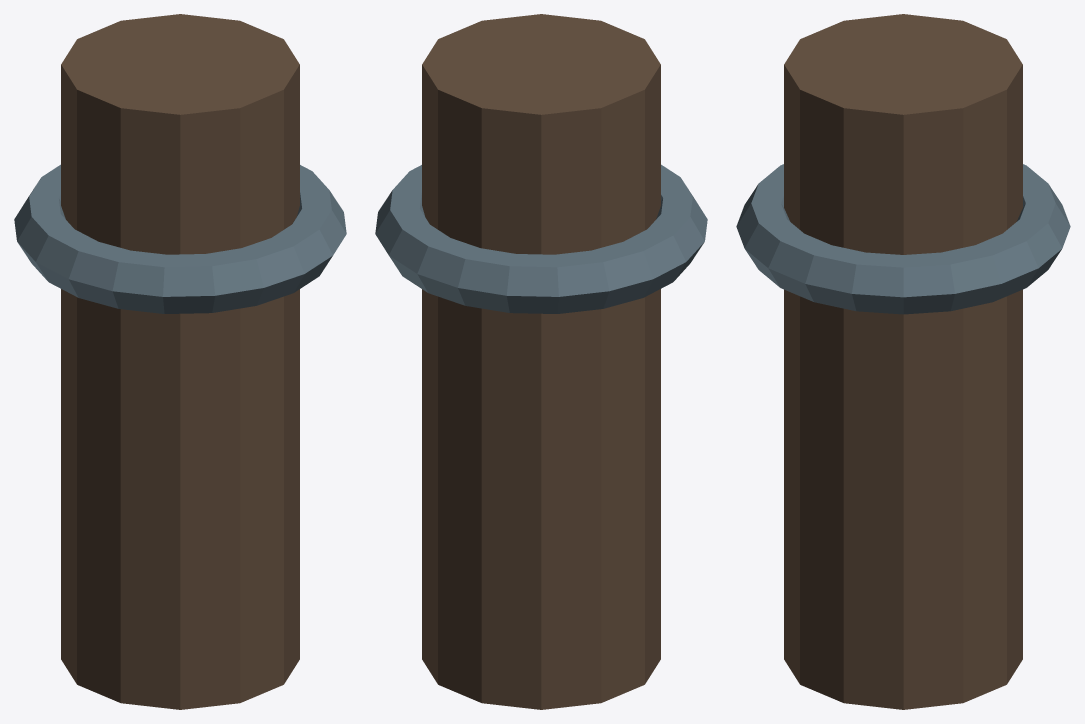
Rendered from harbor-mooring-post.lod0.glb.
3 renders of one model, left to right at view 1: azimuth 30°, elevation 25°; view 2: azimuth 150°, elevation 25°; view 3: azimuth 270°, elevation 25°, orthographic.
Parts seen in each view (by area): view 1: harbor-mooring-post__body; view 2: harbor-mooring-post__body; view 3: harbor-mooring-post__body.
Part boxes in pixels (x1,y1,x2,y2): harbor-mooring-post__body: [14, 14, 346, 709]; harbor-mooring-post__body: [375, 14, 707, 709]; harbor-mooring-post__body: [736, 14, 1070, 709].
Bounding box in the file's own units: 0.56 × 1.1 × 0.56.
